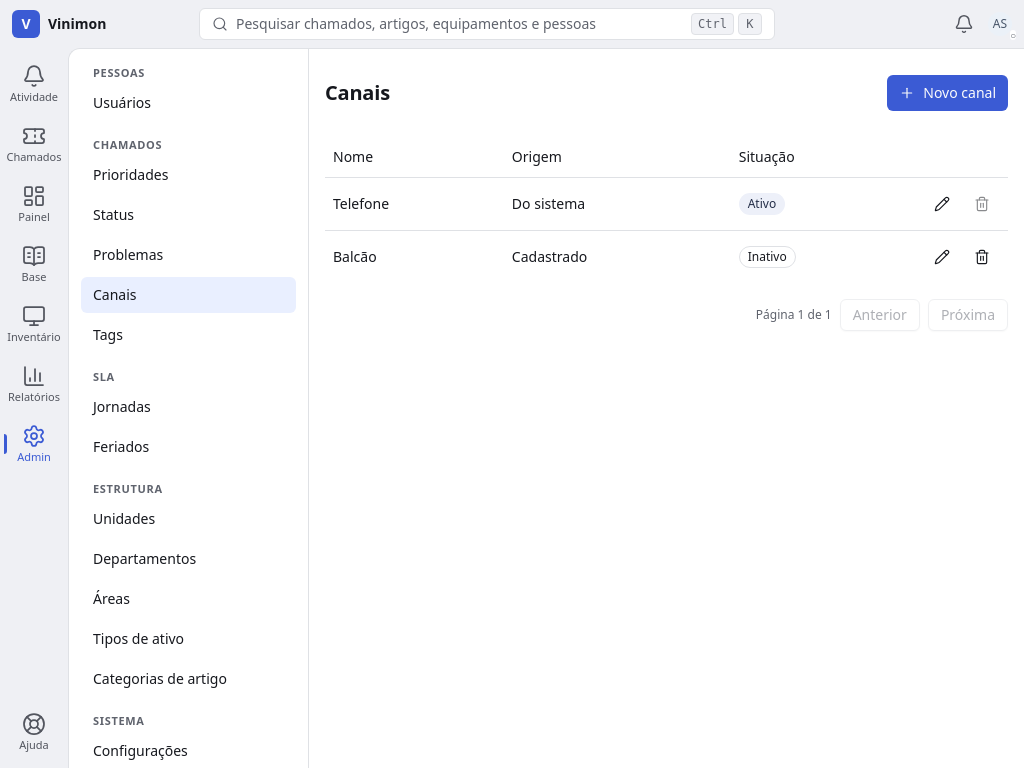
/admin/canais › excluir um canal que não é do sistema confirma e faz DELETE /canais/:id
The width and height of the screenshot is (1024, 768).
What coordinates should you click on to do the following:
click the button named "Excluir Balcão"
I would click on:
 (982, 256)
Its box is [964,238,1000,274].
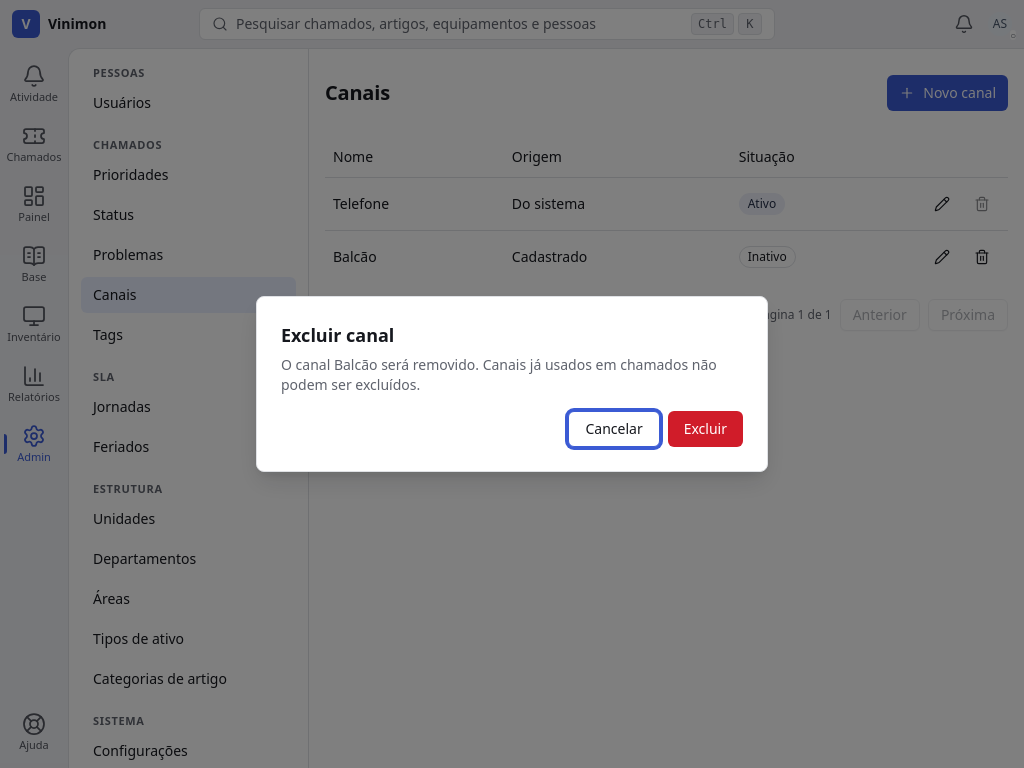
What coordinates should you click on to do the following:
click the button "Excluir"
I would click on:
 (705, 429)
Its box is [668,411,743,447].
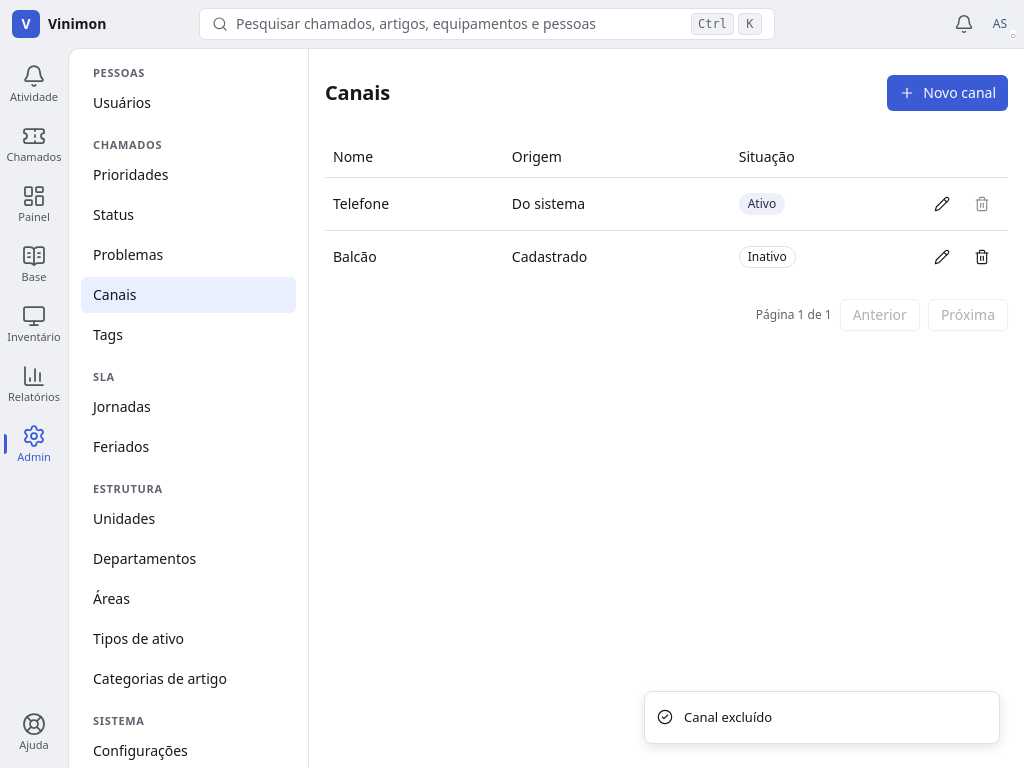
Expected: the text "Canal excluído" is shown, [684,708,772,727]
